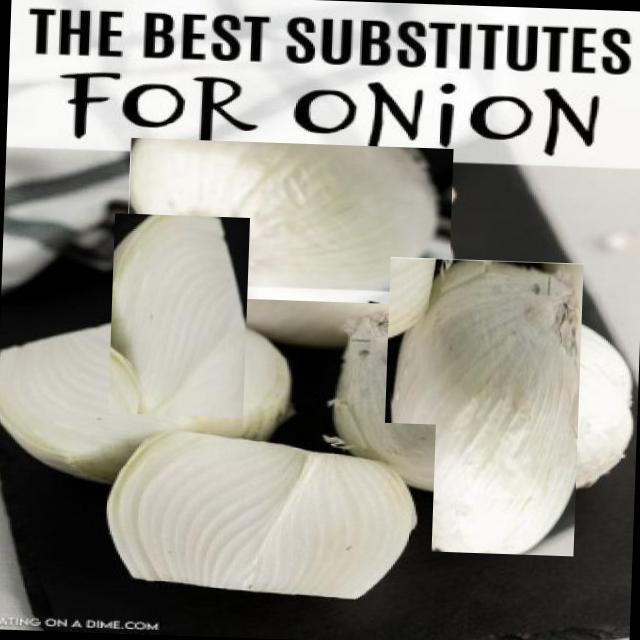Onion: (56, 412, 436, 612), (49, 266, 302, 520), (356, 280, 608, 532), (125, 137, 453, 306)
